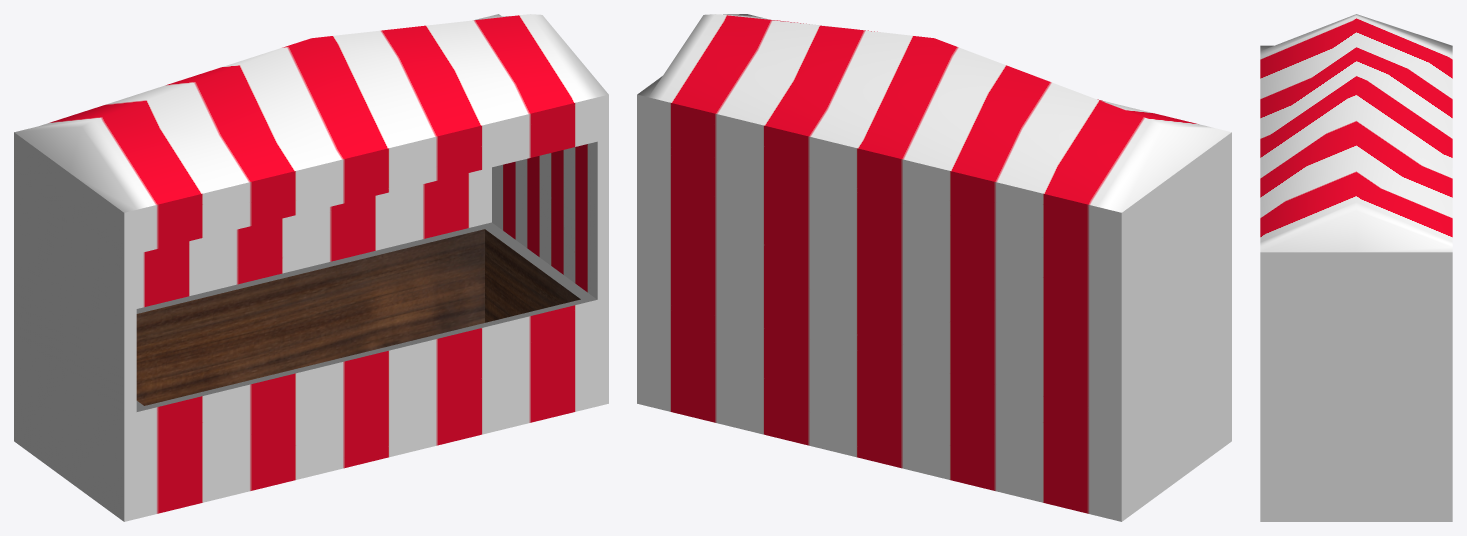
File: Tent.obj
3 renders of one model, left to right at view 1: azimuth 30°, elevation 25°; view 2: azimuth 150°, elevation 25°; view 3: azimuth 270°, elevation 25°, orthographic. The views are drawn at different scales.
Parts seen in each view (by area): view 1: Tent:pCube1; view 2: Tent:pCube1; view 3: Tent:pCube1.
Part boxes in pixels (left/top/right/bottom): Tent:pCube1: left=14, top=14, right=608, bottom=521; Tent:pCube1: left=637, top=14, right=1231, bottom=521; Tent:pCube1: left=1260, top=14, right=1452, bottom=521.
Size of the model in its own units: 50.83 by 38.52 by 20.
Materials: 1 (1 with a texture image).
